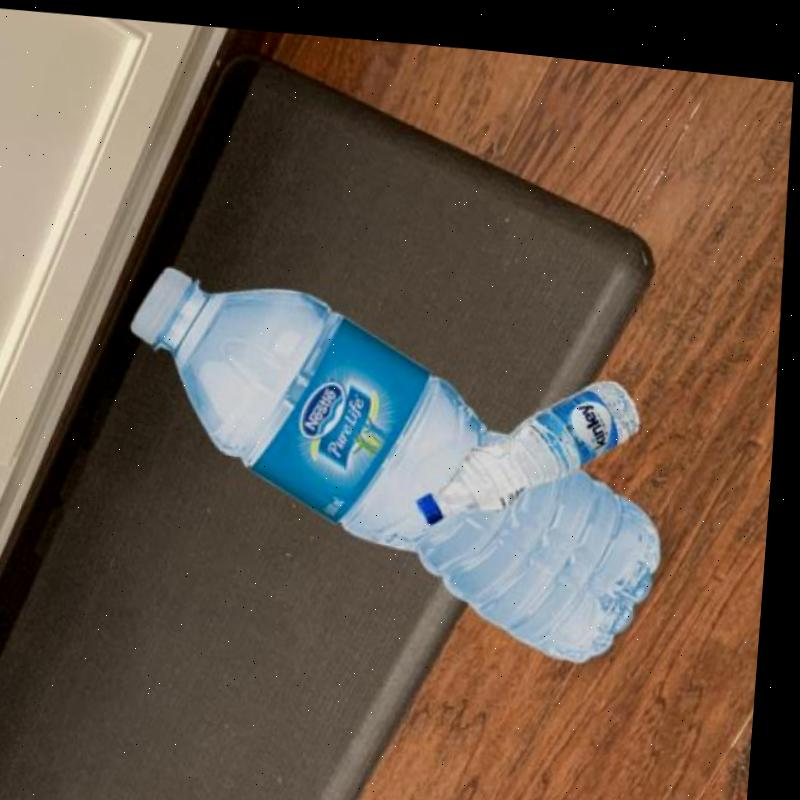botella: (116, 244, 687, 664), (417, 345, 655, 534)
